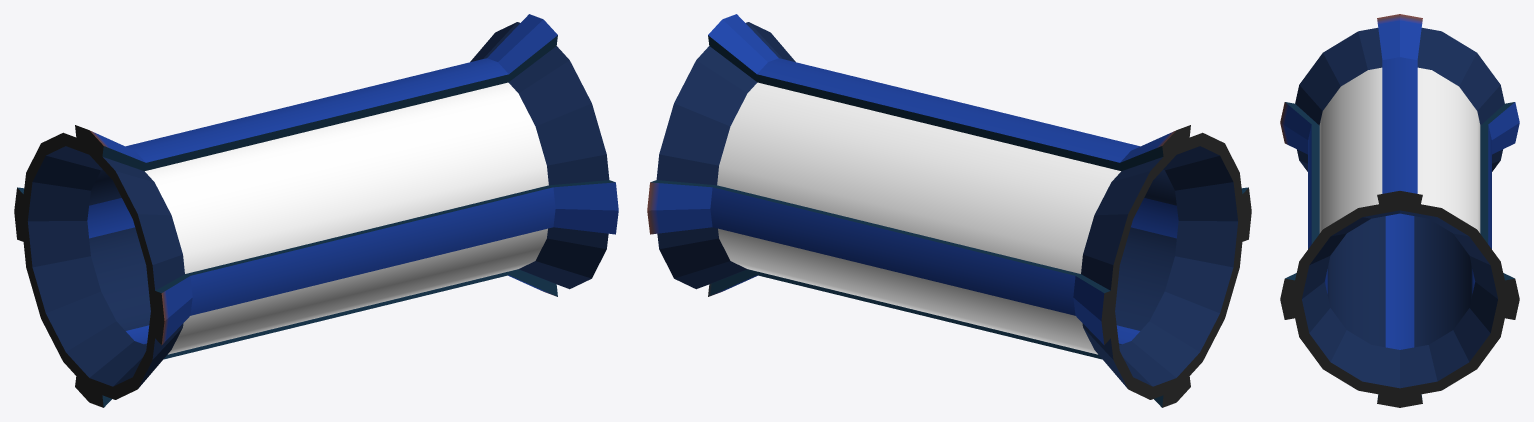
Rendered from Pipe Fix.fbx.
The picture shows the model from 3 angles, left to right: view 1: azimuth 30°, elevation 25°; view 2: azimuth 150°, elevation 25°; view 3: azimuth 270°, elevation 25°; orthographic projection. The views are drawn at different scales.
Visible parts, largest first — view 1: polySurface23; view 2: polySurface23; view 3: polySurface23.
Part boxes in pixels (bbox=[...]): polySurface23: bbox=[14, 14, 618, 407]; polySurface23: bbox=[647, 14, 1251, 407]; polySurface23: bbox=[1280, 14, 1519, 407].
Size of the model in its own units: 51.05 by 29.26 by 29.26.
